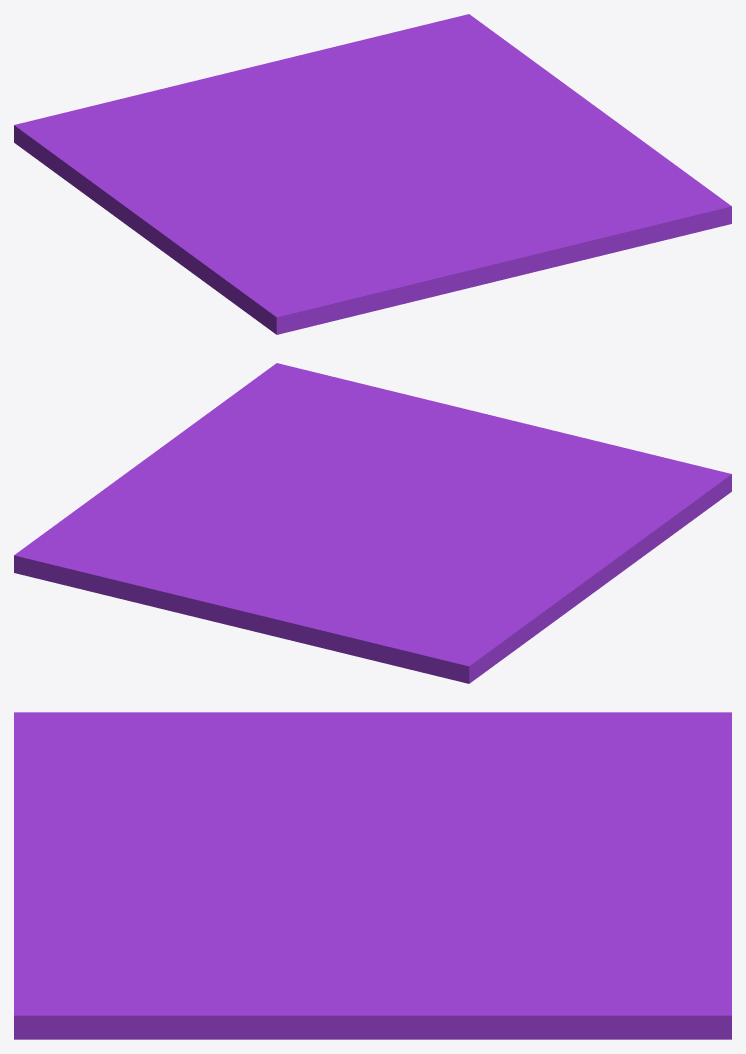
Rendered from Platform_41_chunks.fbx.
3 views of the same model, one above another, from view 1: azimuth 30°, elevation 25°; view 2: azimuth 150°, elevation 25°; view 3: azimuth 270°, elevation 25° (orthographic). The views are drawn at different scales.
Visible parts, largest first — view 1: Platform_41_11, Platform_41_1, Platform_41_9, Platform_41_14, Platform_41_4, Platform_41_2, Platform_41_8, Platform_41_13, Platform_41_10, Platform_41_6, Platform_41_18, Platform_41_7 (+5 smaller); view 2: Platform_41_1, Platform_41_4, Platform_41_11, Platform_41_14, Platform_41_2, Platform_41_9, Platform_41_8, Platform_41_13, Platform_41_6, Platform_41_18, Platform_41_10, Platform_41_7 (+5 smaller); view 3: Platform_41_1, Platform_41_4, Platform_41_11, Platform_41_14, Platform_41_9, Platform_41_8, Platform_41_18, Platform_41_2, Platform_41_13, Platform_41_17, Platform_41_6, Platform_41_10 (+5 smaller).
Boxes of the visible parts, <box> form: Platform_41_11: <box>182,227,406,334</box>; Platform_41_1: <box>14,89,226,211</box>; Platform_41_9: <box>388,196,599,307</box>; Platform_41_14: <box>97,166,306,265</box>; Platform_41_4: <box>294,14,484,114</box>; Platform_41_2: <box>161,57,347,140</box>; Platform_41_8: <box>527,150,731,253</box>; Platform_41_13: <box>306,161,400,256</box>; Platform_41_10: <box>496,179,686,255</box>; Platform_41_6: <box>331,106,463,168</box>; Platform_41_18: <box>451,25,601,114</box>; Platform_41_7: <box>383,158,544,202</box>; Platform_41_1: <box>322,576,563,683</box>; Platform_41_4: <box>14,522,288,611</box>; Platform_41_11: <box>533,442,731,560</box>; Platform_41_14: <box>409,508,642,614</box>; Platform_41_2: <box>173,537,384,648</box>; Platform_41_9: <box>375,399,601,489</box>; Platform_41_8: <box>201,363,323,455</box>; Platform_41_13: <box>371,459,544,538</box>; Platform_41_6: <box>222,483,373,555</box>; Platform_41_18: <box>30,458,192,543</box>; Platform_41_10: <box>321,374,424,453</box>; Platform_41_7: <box>271,452,439,509</box>; Platform_41_1: <box>467,712,731,811</box>; Platform_41_4: <box>498,877,731,1039</box>; Platform_41_11: <box>14,712,258,815</box>; Platform_41_14: <box>246,712,505,829</box>; Platform_41_9: <box>14,799,256,916</box>; Platform_41_8: <box>14,931,277,1039</box>; Platform_41_18: <box>369,963,688,1039</box>; Platform_41_2: <box>461,810,731,898</box>; Platform_41_13: <box>100,788,415,867</box>; Platform_41_17: <box>222,946,413,1039</box>; Platform_41_6: <box>319,860,543,937</box>; Platform_41_10: <box>14,904,230,985</box>.
Bounding box in the file's own units: 810 × 29.87 × 810.
